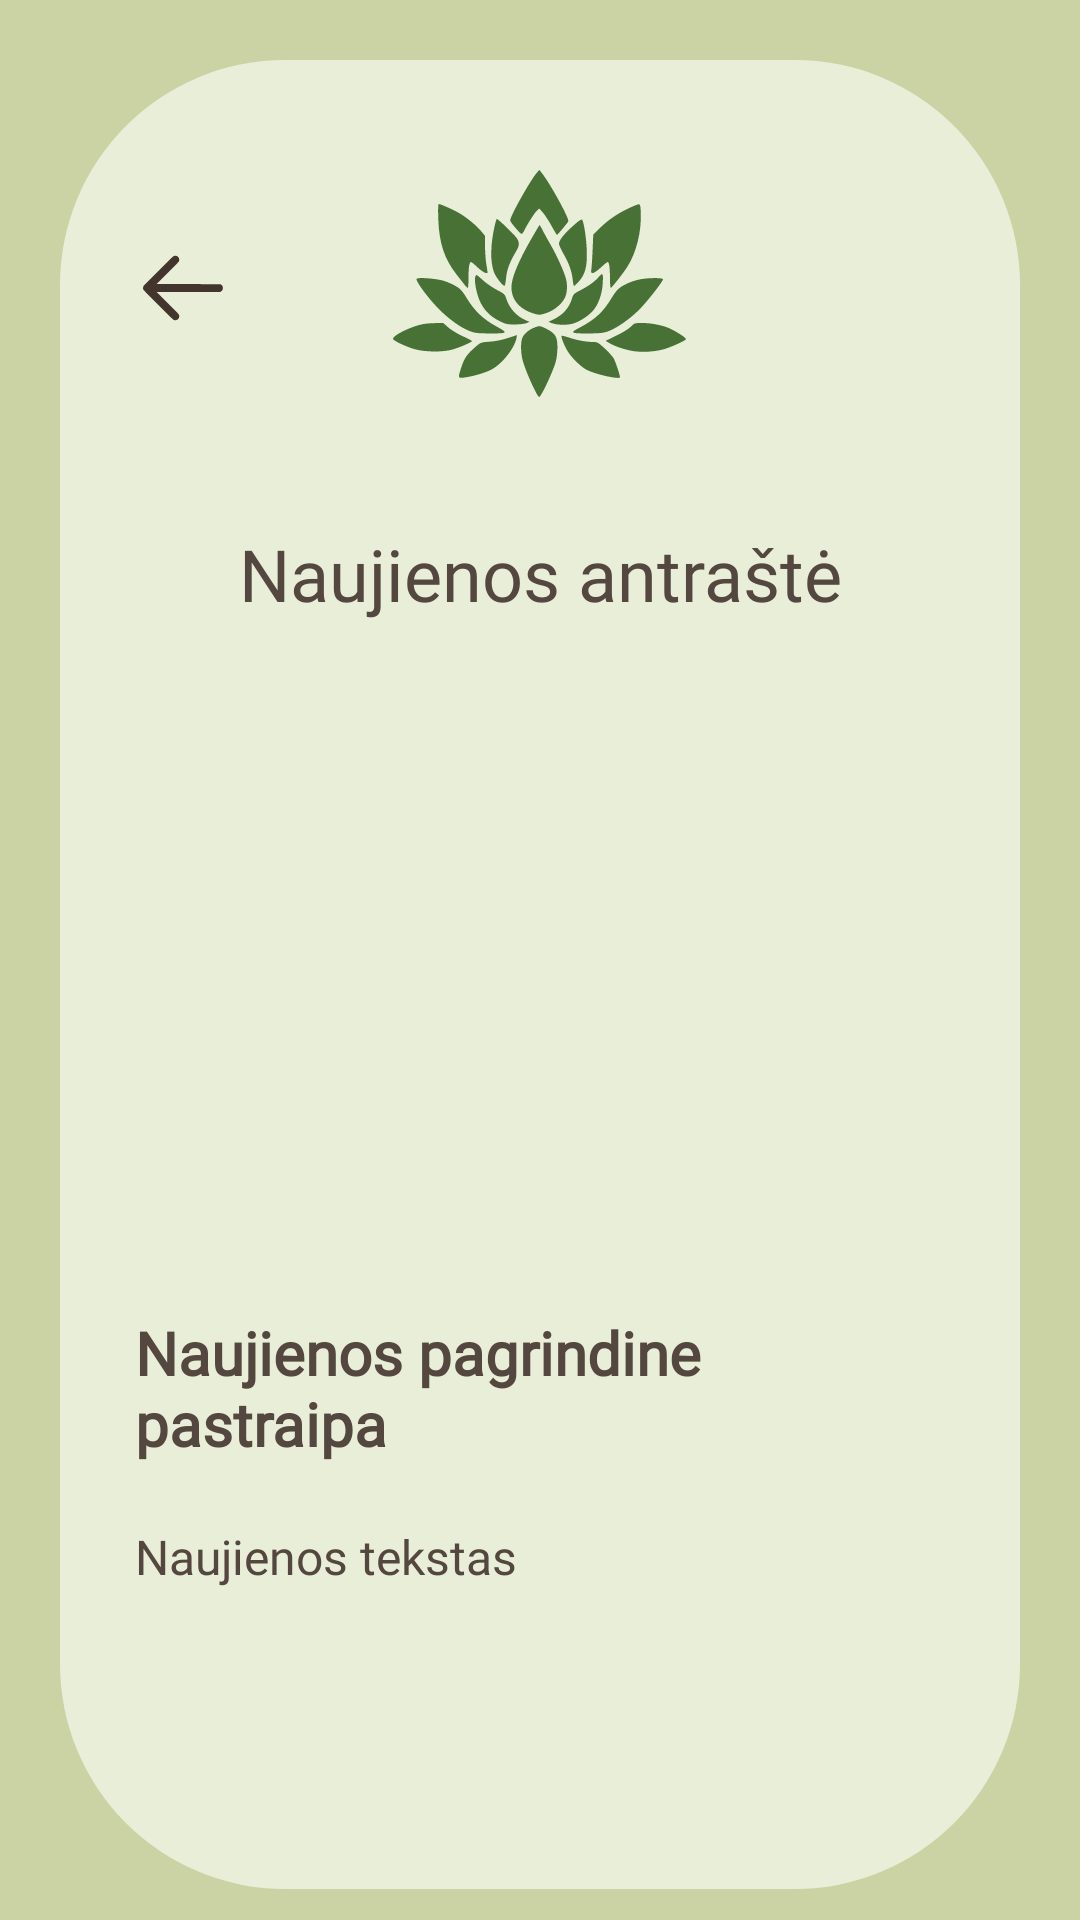

Screen size 1080×1920. Icon name, then its center in pixels as point (x, y):
Lotus icon: point (539, 283)
